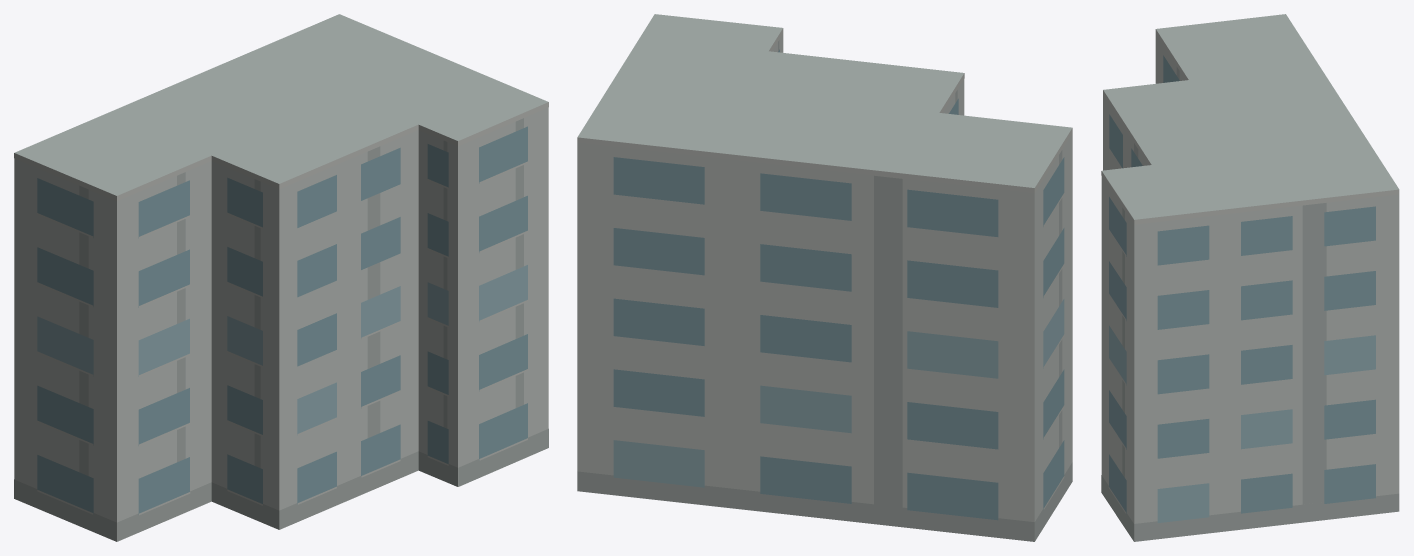
Rendered from survey-upis-32764537.glb.
3 renders of one model, left to right at view 1: azimuth 30°, elevation 25°; view 2: azimuth 150°, elevation 25°; view 3: azimuth 270°, elevation 25°, orthographic. The views are drawn at different scales.
Parts seen in each view (by area): view 1: survey-upis-32764537.tmp; view 2: survey-upis-32764537.tmp; view 3: survey-upis-32764537.tmp.
Part boxes in pixels (bbox=[...]): survey-upis-32764537.tmp: bbox=[14, 14, 548, 541]; survey-upis-32764537.tmp: bbox=[577, 14, 1072, 541]; survey-upis-32764537.tmp: bbox=[1101, 14, 1399, 541].
Size of the model in its own units: 21.67 by 15.8 by 13.26.
